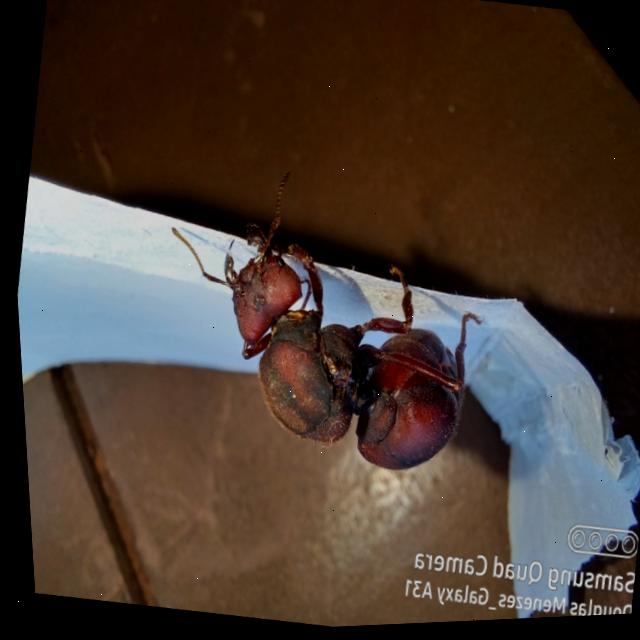Alive-Female-Dealate: (131, 147, 509, 495)
